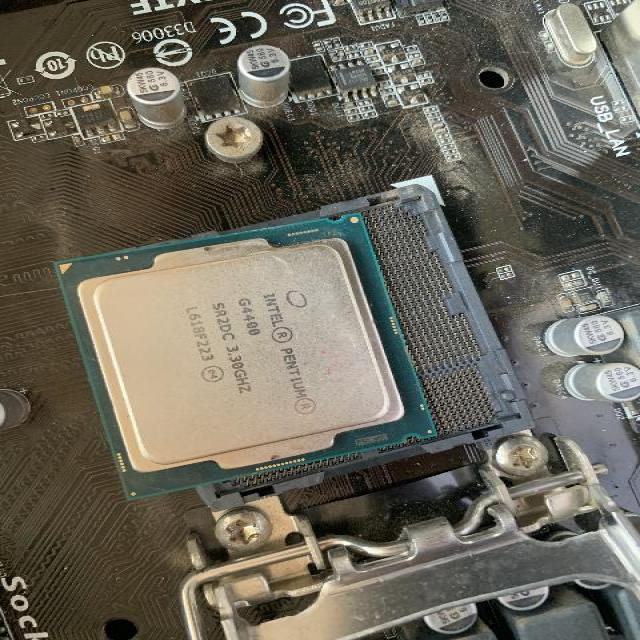CPU: (49, 212, 436, 499)
Mainboard: (0, 0, 640, 640)
